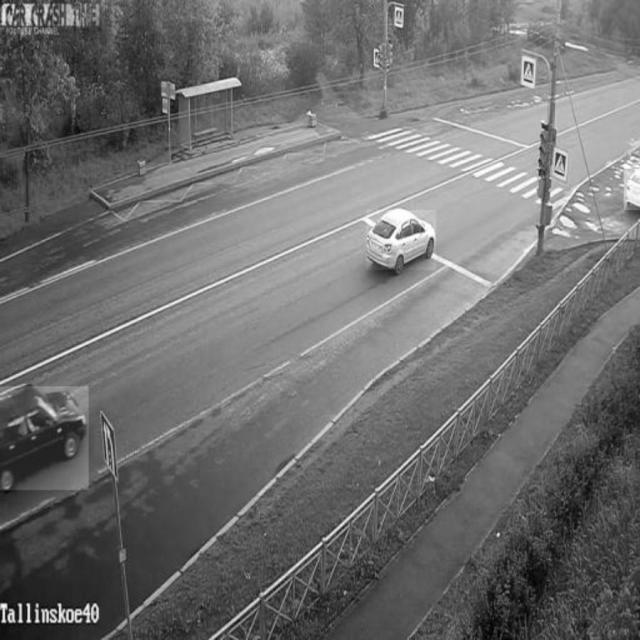vehicle: (0, 387, 88, 490), (366, 211, 436, 271), (624, 163, 640, 210)
